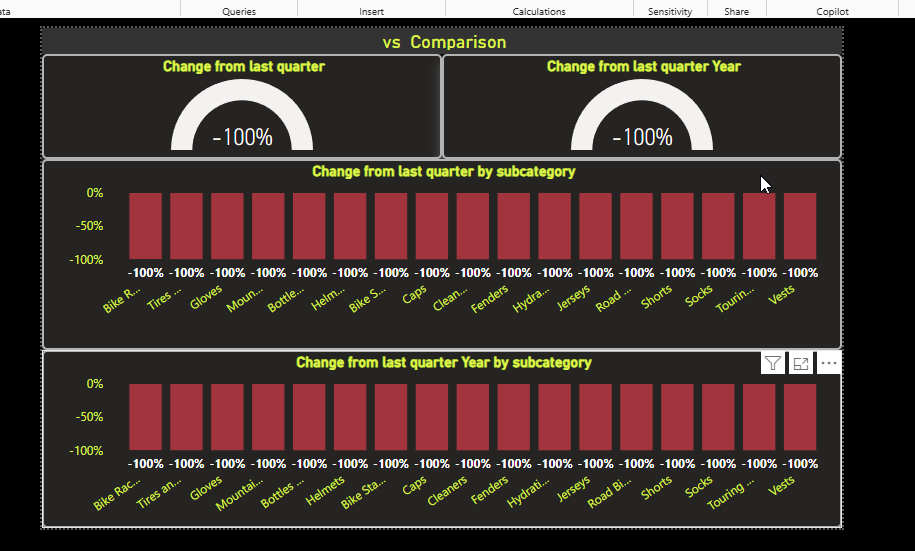

What the dashboard file says about the page in this screenshot:
{"tool":"powerbi","page":{"name":"Tooltip","canvas":[800,500],"ordinal":4},"visuals":[{"type":"card","fields":{"Values":["CALC.Quarter_Label"]},"box":[0,0,800,26],"z":0},{"type":"gauge","fields":{"Y":["CALC.Change from last quarter"]},"box":[0,26,400,105],"z":1000},{"type":"gauge","fields":{"Y":["CALC.Change from last quarter Year"]},"box":[400,26,400,105],"z":2000},{"type":"clusteredColumnChart","fields":{"Y":["CALC.Change from last quarter"],"Category":["gold report_products.subcategory"]},"box":[0,131,800,191],"z":3000},{"type":"clusteredColumnChart","fields":{"Y":["CALC.Change from last quarter Year"],"Category":["gold report_products.subcategory"]},"box":[0,322,800,178],"z":4000}]}

Visuals, with their boxes on the page's 800x500 design canvas (x1, y1, x2, y2). These are canvas units, not pixel positions in the 915x551 screenshot, which may show the page scaled, cropped or inside an application window:
card - CALC.Quarter_Label: l=0, t=0, r=800, b=26
gauge - CALC.Change from last quarter: l=0, t=26, r=400, b=131
gauge - CALC.Change from last quarter Year: l=400, t=26, r=800, b=131
clusteredColumnChart - CALC.Change from last quarter x gold report_products.subcategory: l=0, t=131, r=800, b=322
clusteredColumnChart - CALC.Change from last quarter Year x gold report_products.subcategory: l=0, t=322, r=800, b=500
